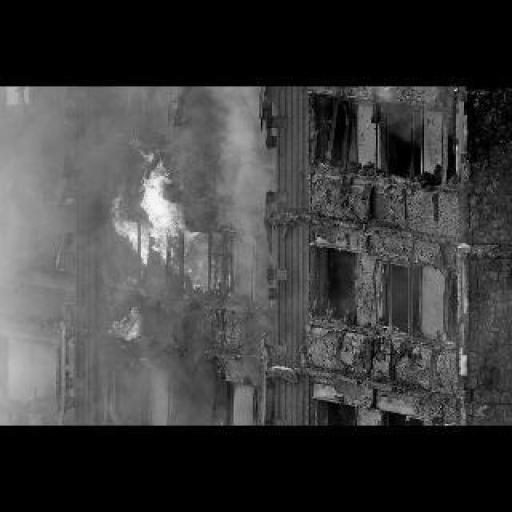smoke: (107, 138, 227, 292)
